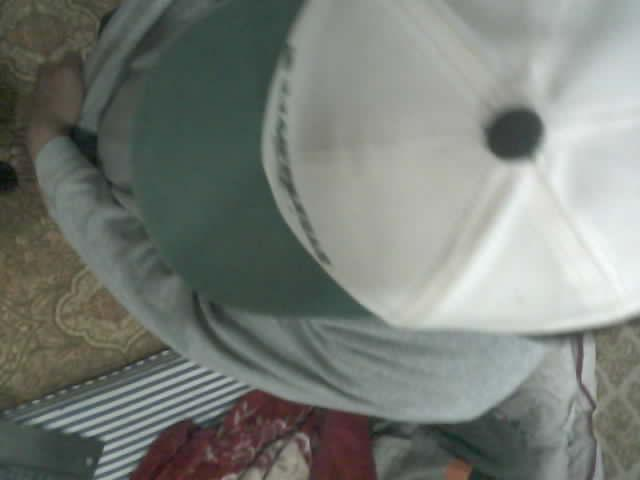cap: (95, 0, 639, 336)
